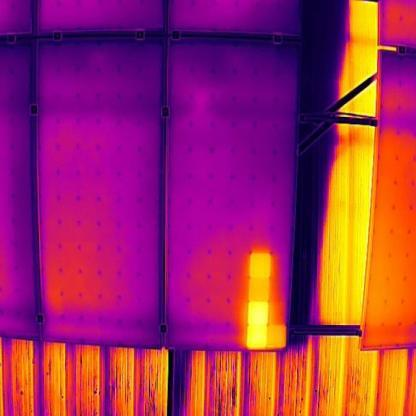anomaly: (240, 248, 289, 354)
